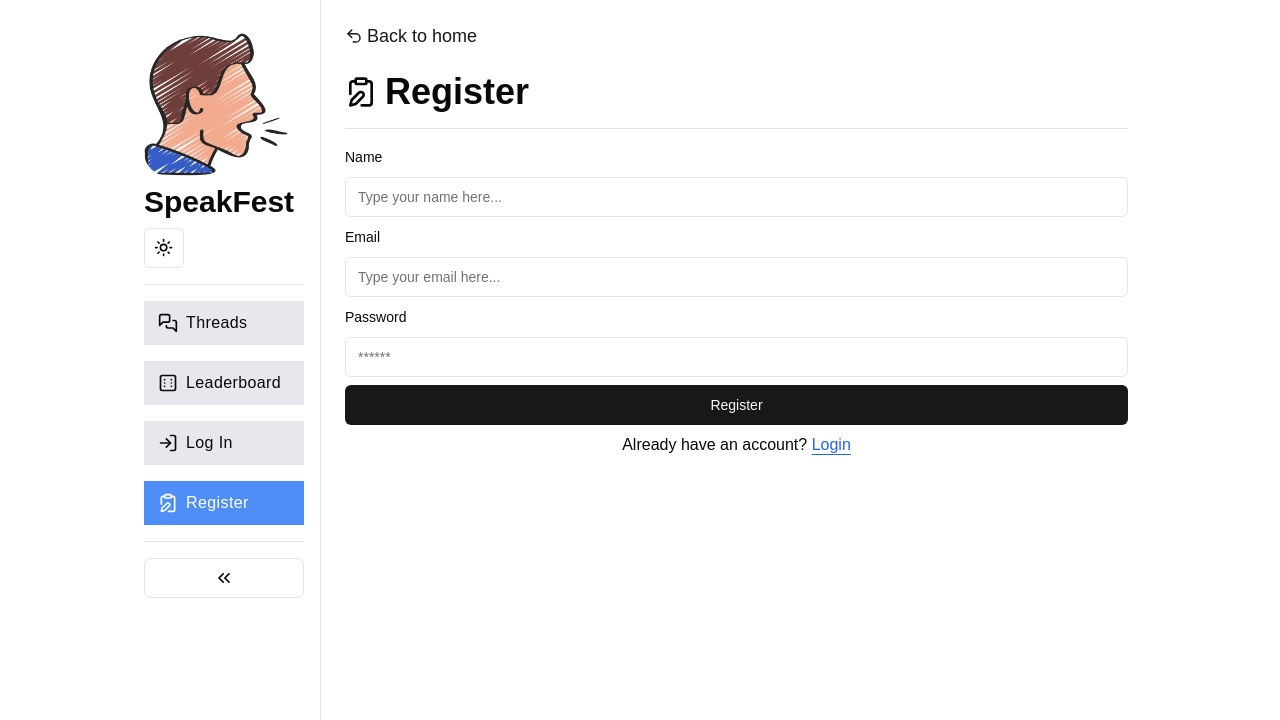
Scenario: Register spec › should display error message and disabled button register if name greater than 50 character
The width and height of the screenshot is (1280, 720).
In the field labelled "Name": coordinates (737, 197) [345, 177, 1128, 217], type "vestiazetaxkobokanaeruxkaelakovalskiaxayundarisuxmoonahoshinovaxairaniiofifteenxkureijiolliexanyamelfisaxpavoliareine"
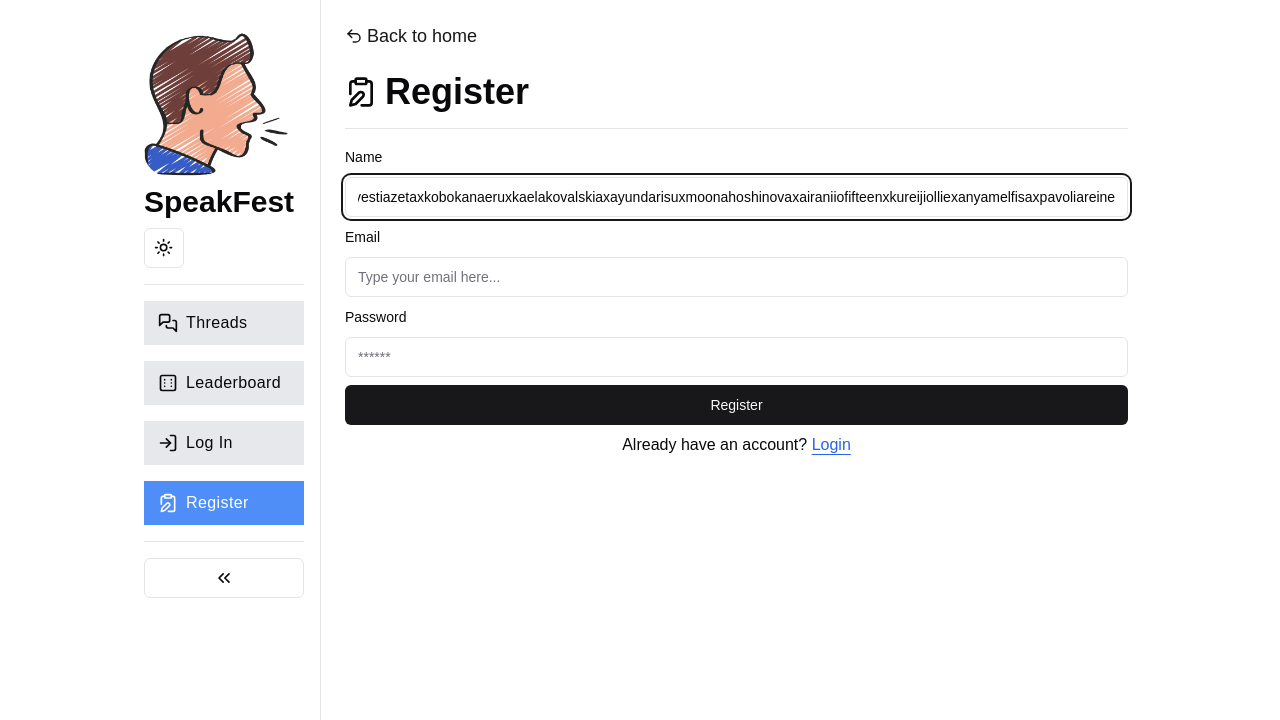
Submit the form, box [345, 145, 1128, 425]
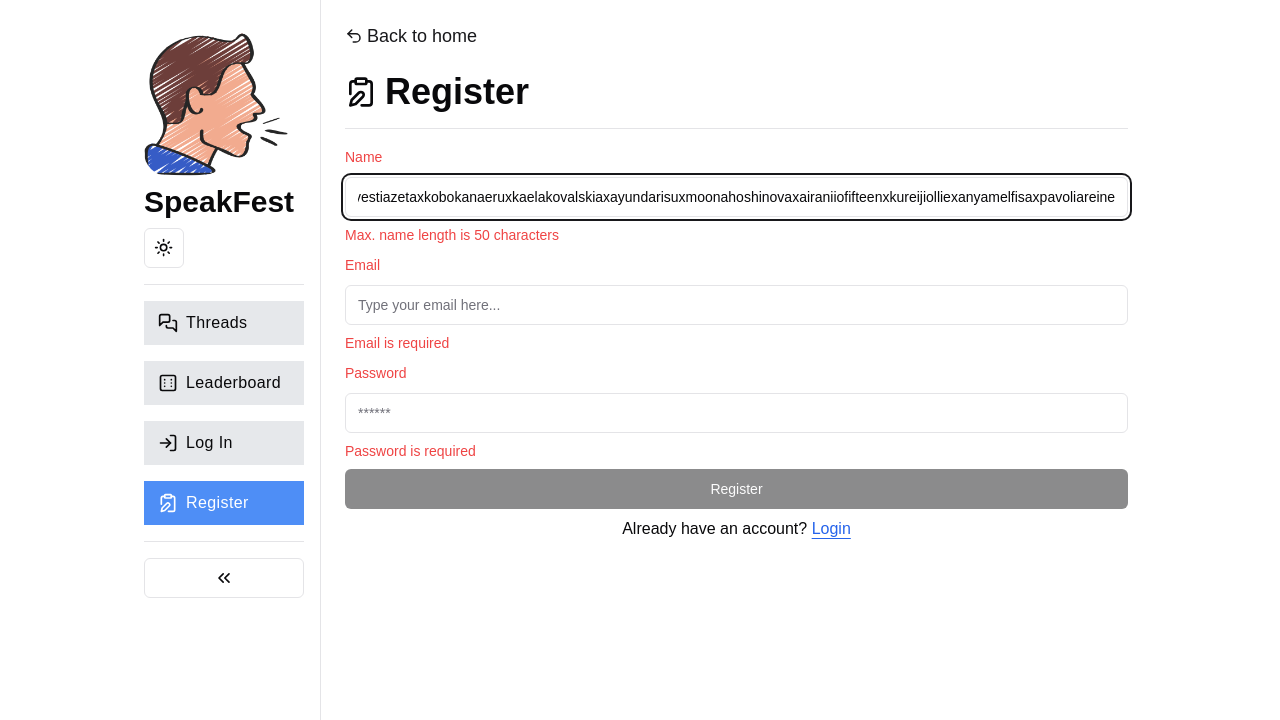
Now the text "Max. name length is 50 characters" is shown, box [345, 227, 559, 243]
Now the text "Email is required" is shown, box [345, 335, 449, 351]
Now the text "Password is required" is shown, box [345, 443, 476, 459]
